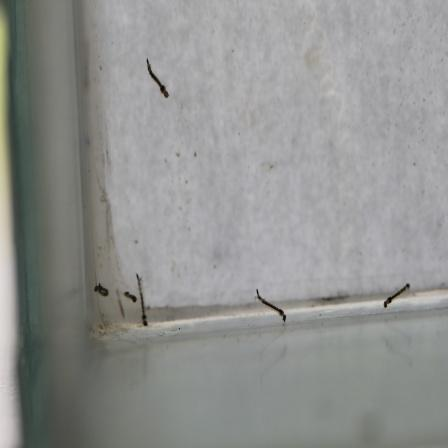Jentik-Nyamuk: (123, 270, 151, 331), (252, 283, 289, 326), (142, 54, 172, 101), (382, 280, 412, 309), (88, 280, 113, 299)
